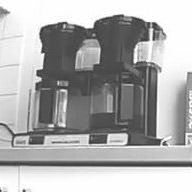empty coffee: (28, 75, 86, 132)
